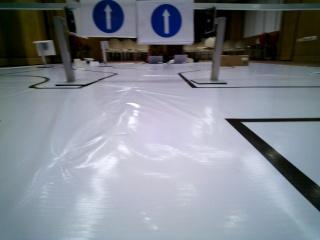straight: (137, 0, 194, 44), (74, 0, 137, 36)
